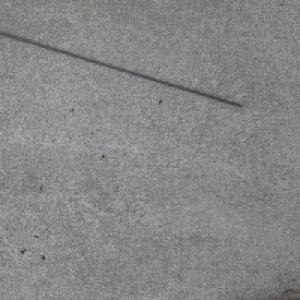LuggagePart: (0, 31, 244, 108)
